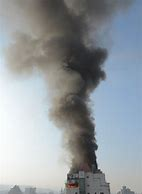smoke: (5, 1, 109, 168)
